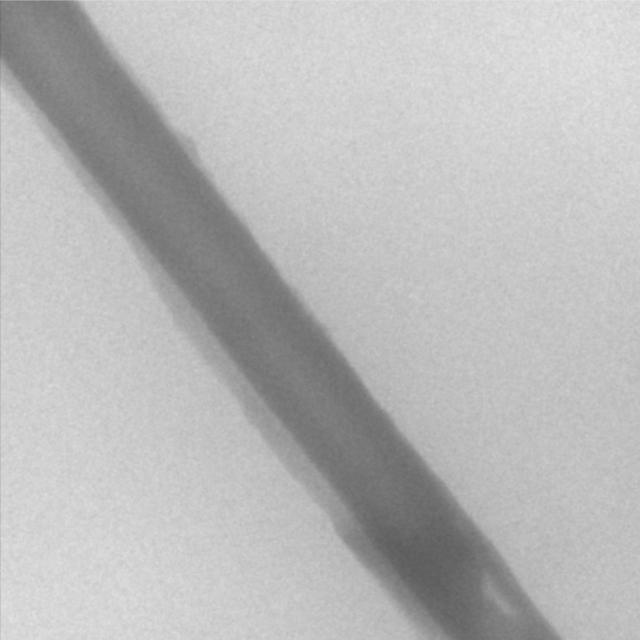unfused: (478, 562, 530, 627)
